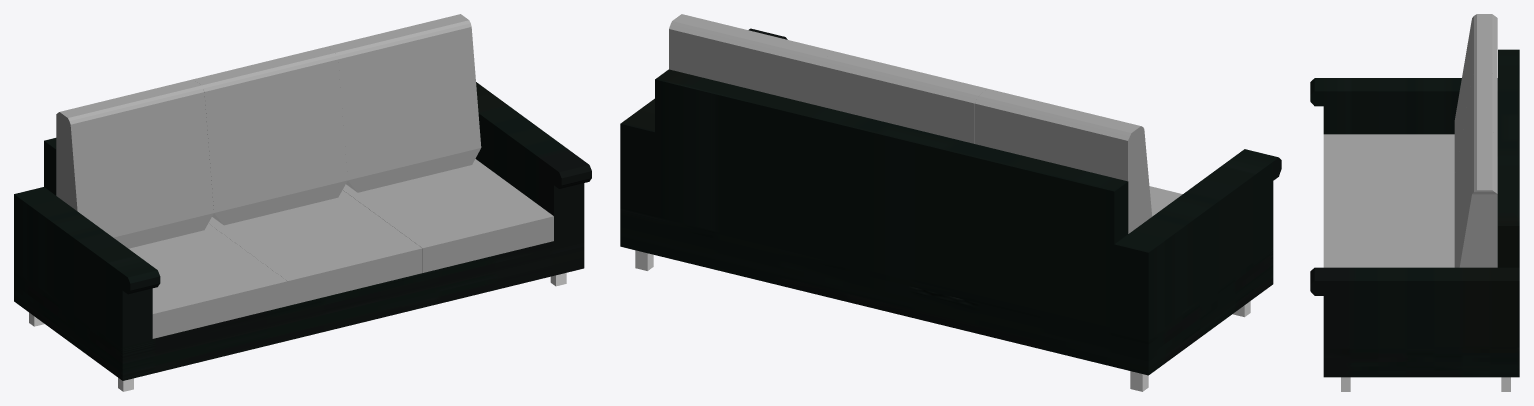
Rendered from Couch.fbx.
3 views of the same model, side by side, from view 1: azimuth 30°, elevation 25°; view 2: azimuth 150°, elevation 25°; view 3: azimuth 270°, elevation 25° (orthographic). The views are drawn at different scales.
Parts seen in each view (by area): view 1: Base, Cushion Back 1, Cushion Back 2, Cushion Back 3, Cushion Seat 2, Cushion Seat 3, Cushion Seat 1; view 2: Base, Cushion Back 1, Cushion Back 2, Cushion Back 3; view 3: Base, Cushion Seat 2, Cushion Seat 1, Cushion Back 3, Cushion Back 2, Cushion Back 1, Cushion Seat 3.
Boxes of the visible parts, x1,y1,x2,y2 form: Base: [14, 82, 591, 380]; Cushion Back 1: [56, 79, 213, 248]; Cushion Back 2: [193, 46, 347, 225]; Cushion Back 3: [327, 14, 481, 192]; Cushion Seat 2: [208, 190, 422, 305]; Cushion Seat 3: [343, 159, 553, 272]; Cushion Seat 1: [129, 223, 287, 338]; Base: [620, 28, 1281, 375]; Cushion Back 1: [975, 89, 1152, 233]; Cushion Back 2: [821, 51, 987, 143]; Cushion Back 3: [669, 14, 834, 106]; Base: [1310, 49, 1519, 377]; Cushion Seat 2: [1323, 193, 1454, 252]; Cushion Seat 1: [1323, 134, 1454, 193]; Cushion Back 3: [1454, 131, 1497, 267]; Cushion Back 2: [1454, 72, 1497, 236]; Cushion Back 1: [1454, 14, 1497, 178]; Cushion Seat 3: [1323, 252, 1454, 267].
Size of the model in its own units: 679 by 300 by 296.
